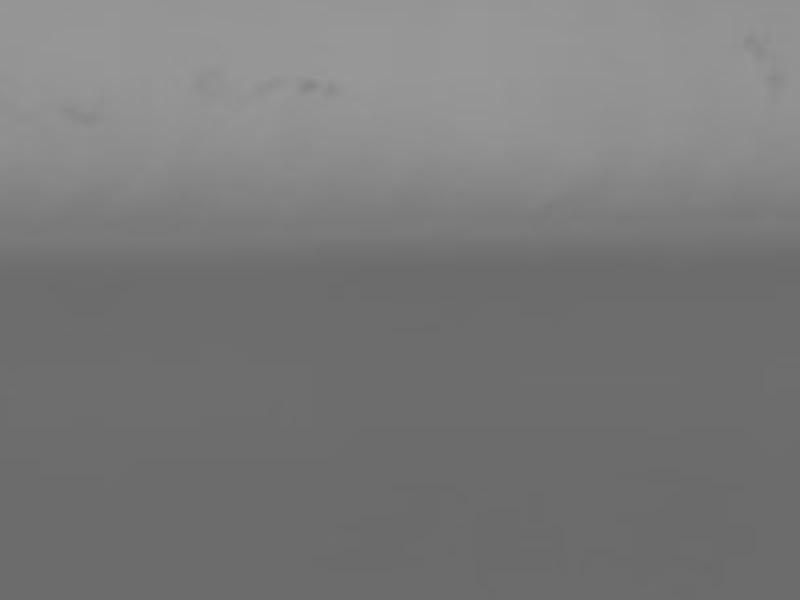defect: (188, 66, 225, 99), (61, 99, 101, 126), (247, 72, 291, 94), (742, 31, 768, 59), (768, 73, 789, 101), (293, 77, 319, 96), (325, 76, 338, 99)
